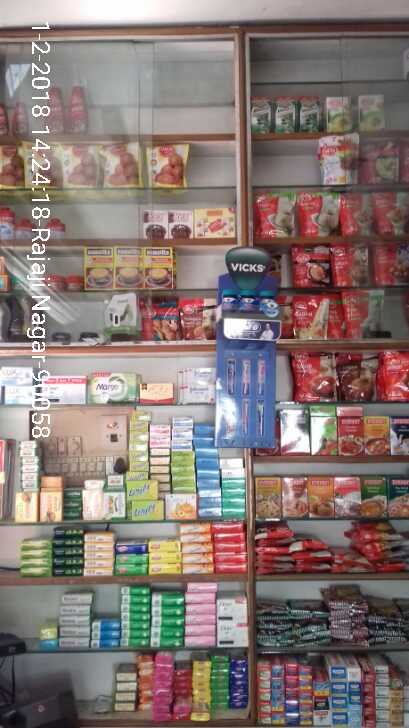vicks: (239, 288, 260, 313), (221, 287, 239, 313), (259, 288, 277, 312)
